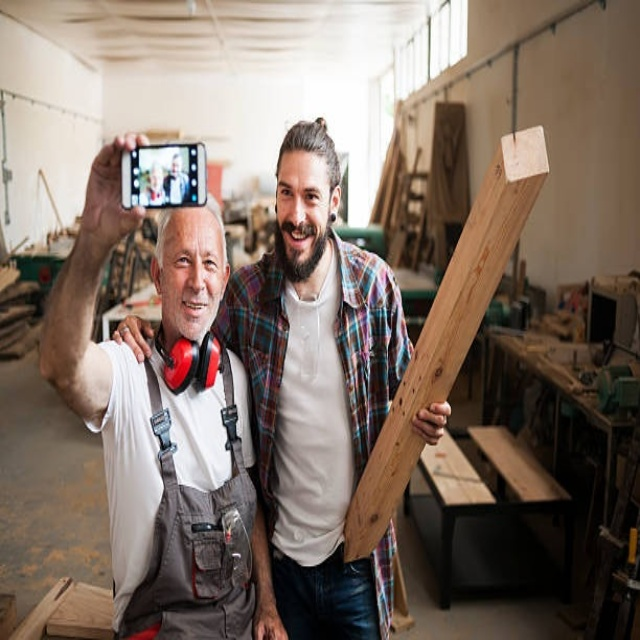Sin_gafas: (164, 237, 222, 279), (276, 174, 326, 212)
Sin_guantes: (81, 133, 151, 243), (412, 394, 450, 444)
Sin_mascara: (281, 226, 318, 264), (177, 293, 213, 329)
